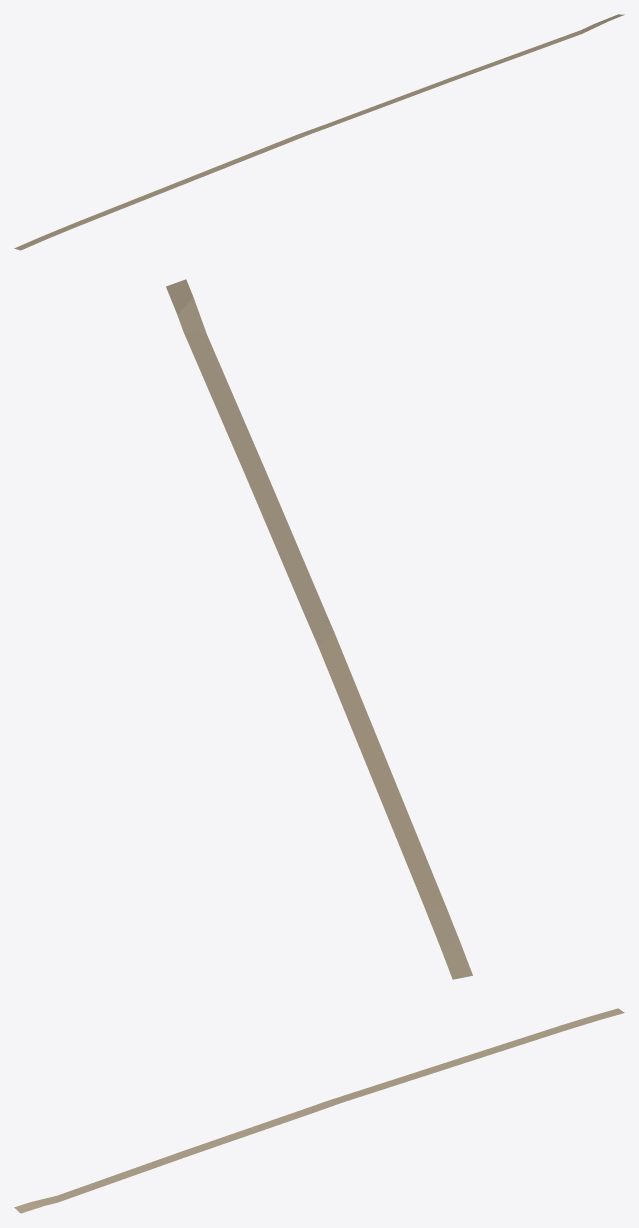
The model's file is farm_0_13_track.glb.
3 views of the same model, one above another, from view 1: azimuth 90°, elevation 25°; view 2: azimuth 150°, elevation 25°; view 3: azimuth 270°, elevation 25° (orthographic). The views are drawn at different scales.
Parts seen in each view (by area): view 1: geometry_0; view 2: geometry_0; view 3: geometry_0.
Part boxes in pixels (box(x1,y1,x2,y2)): geometry_0: box(14, 14, 624, 250); geometry_0: box(166, 279, 472, 979); geometry_0: box(14, 1008, 624, 1213).
Size of the model in its own units: 165 by 6.84 by 193.
